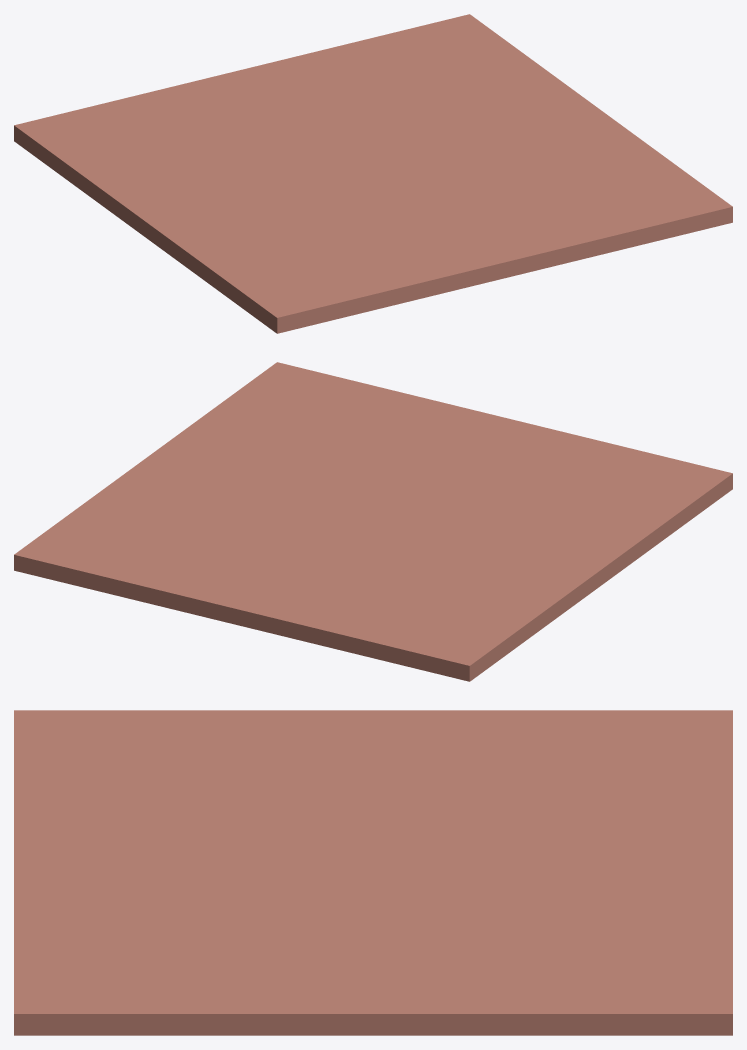
The picture shows the model from 3 angles, top to bottom: view 1: azimuth 30°, elevation 25°; view 2: azimuth 150°, elevation 25°; view 3: azimuth 270°, elevation 25°; orthographic projection. The views are drawn at different scales.
Size of the model in its own units: 120 by 22 by 120.
